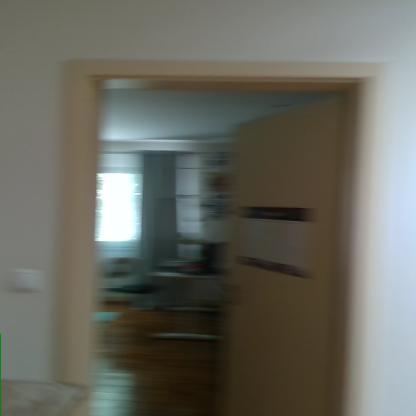open: (50, 58, 357, 416)
